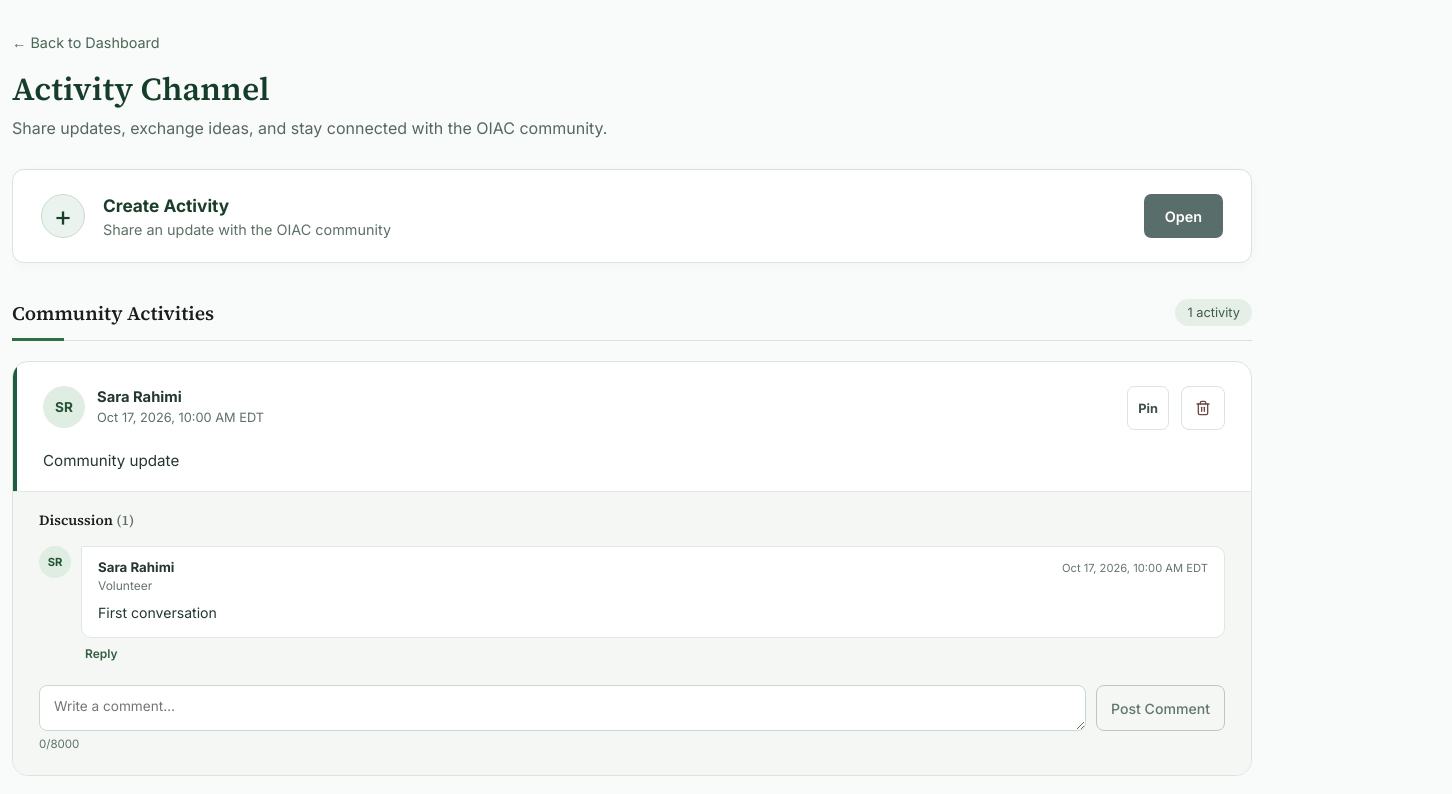
locks repeated synchronous submits until the server responds
Click the button with aria-label "Create Activity".
click(1183, 216)  # box left=1144, top=194, right=1223, bottom=238
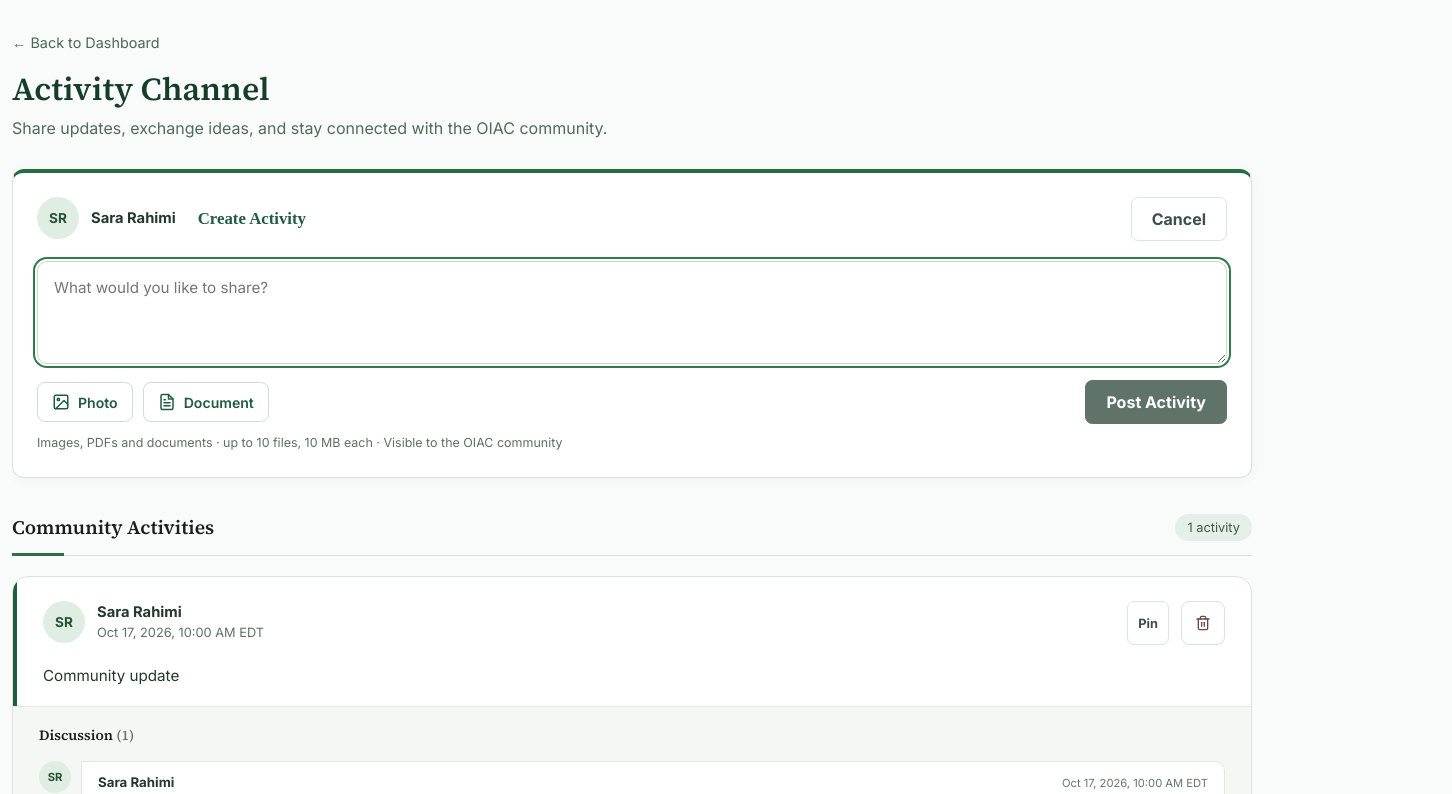
Type "New update" into the text box named "Activity content".
click(632, 313); type("New update")  # box left=37, top=261, right=1227, bottom=364
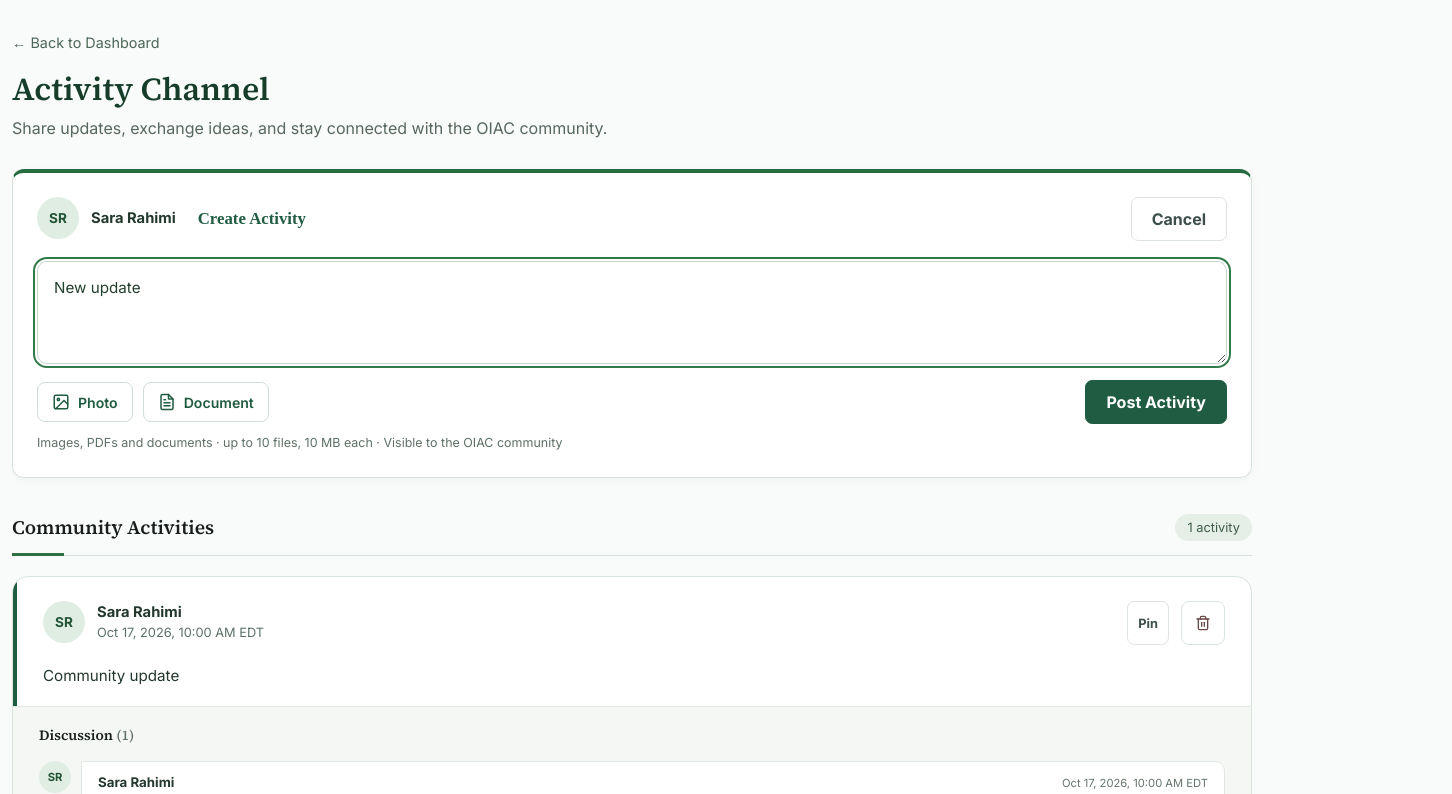
Submit the form "Create Activity", box left=12, top=169, right=1252, bottom=478
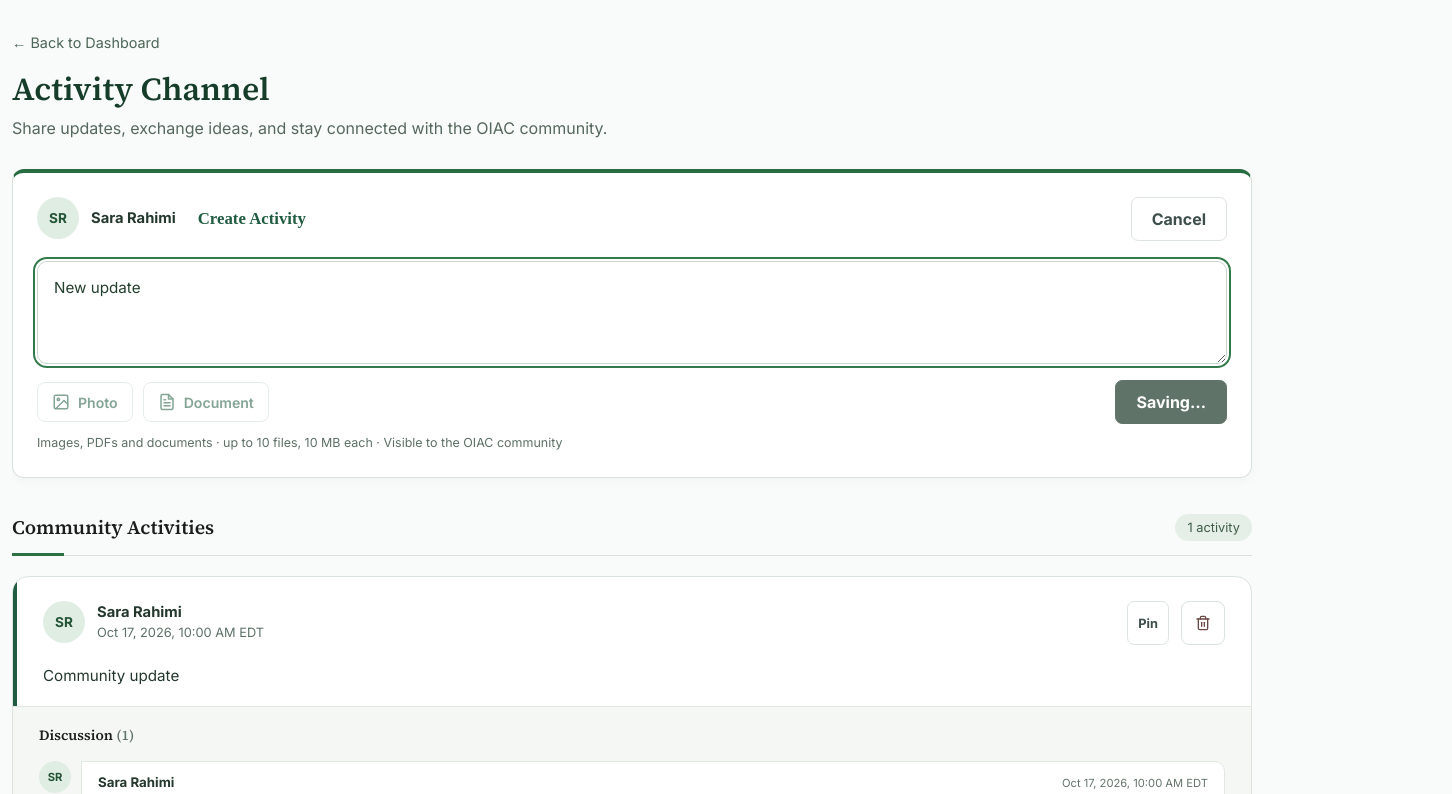
Submit the form "Create Activity", box left=12, top=169, right=1252, bottom=478
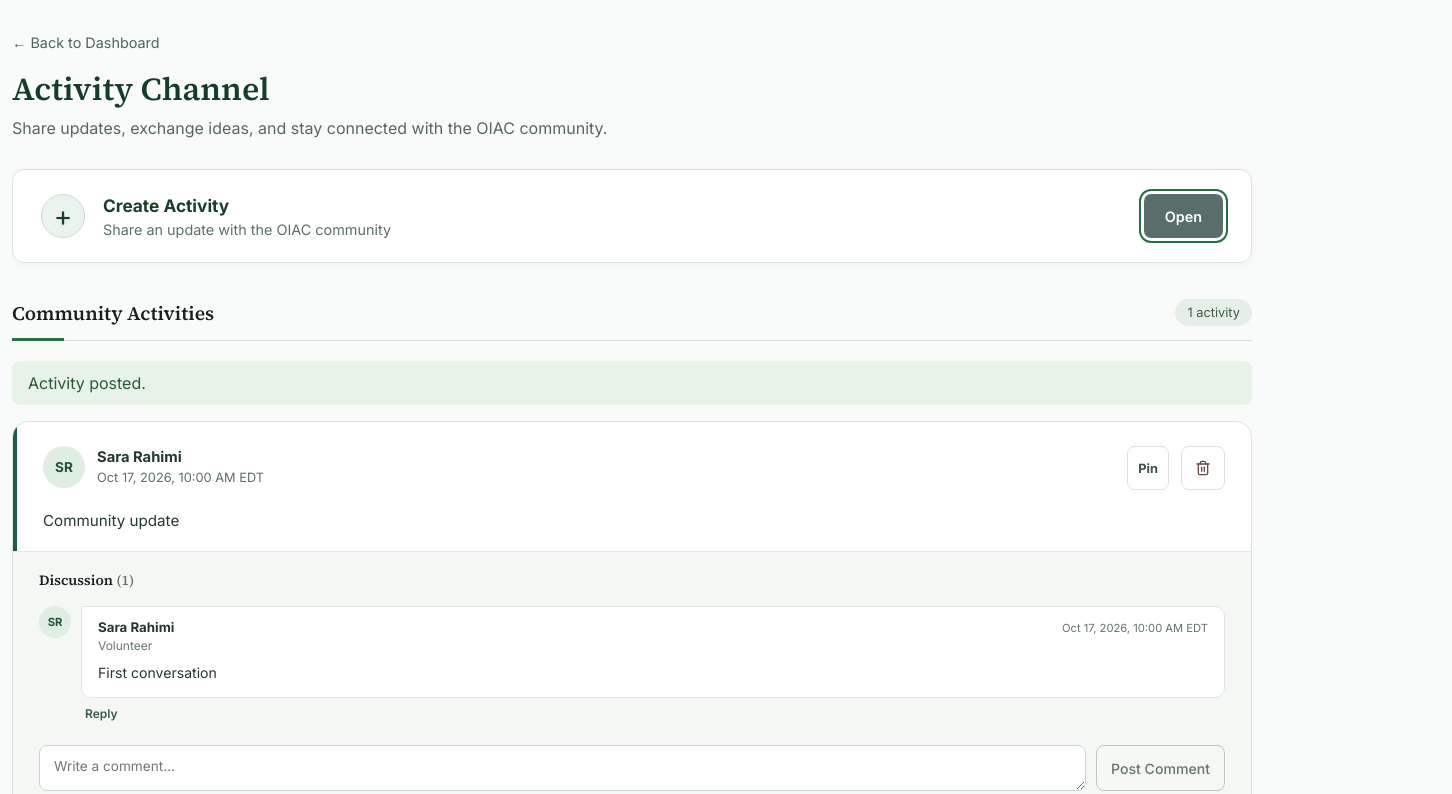
expect the text "Activity posted." is shown: met, box left=12, top=361, right=1252, bottom=405
